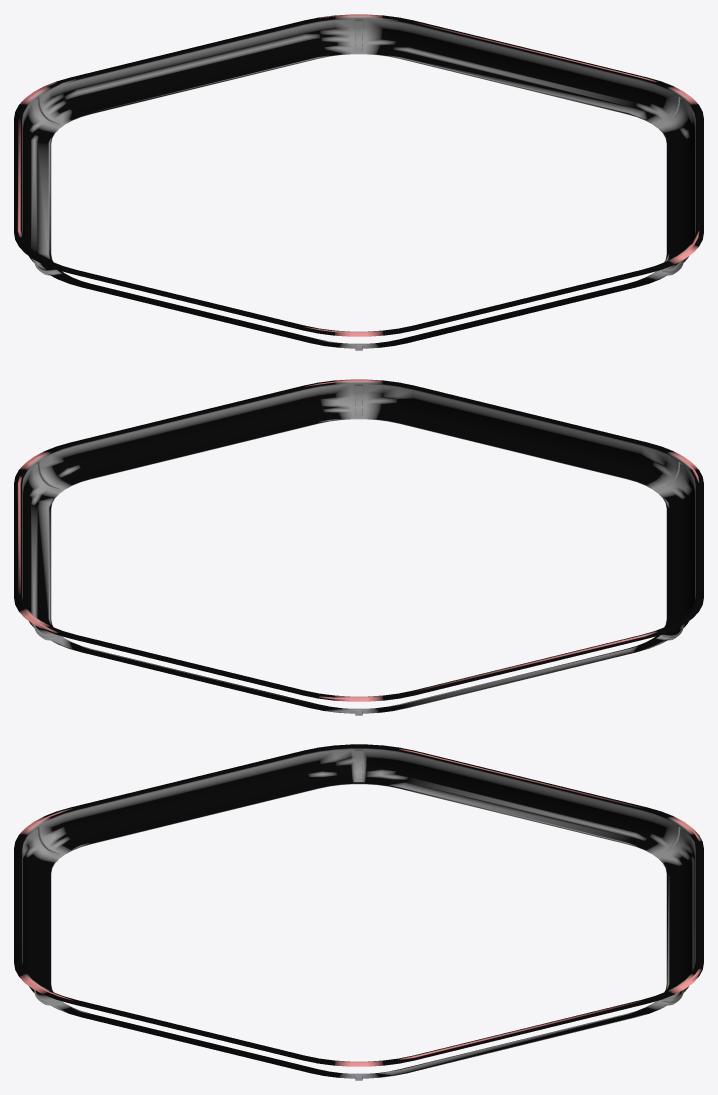
Rendered from BO_Arena_Quarterpipe_SM.gltf.
3 views of the same model, one above another, from view 1: azimuth 30°, elevation 25°; view 2: azimuth 150°, elevation 25°; view 3: azimuth 270°, elevation 25° (orthographic).
Parts seen in each view (by area): view 1: BO_Arena_Quarterpipe_SM; view 2: BO_Arena_Quarterpipe_SM; view 3: BO_Arena_Quarterpipe_SM.
Boxes of the visible parts, x1,y1,x2,y2 form: BO_Arena_Quarterpipe_SM: (14,14,703,350); BO_Arena_Quarterpipe_SM: (14,379,703,715); BO_Arena_Quarterpipe_SM: (14,744,703,1080).
Size of the model in its own units: 264 by 9.45 by 239.
